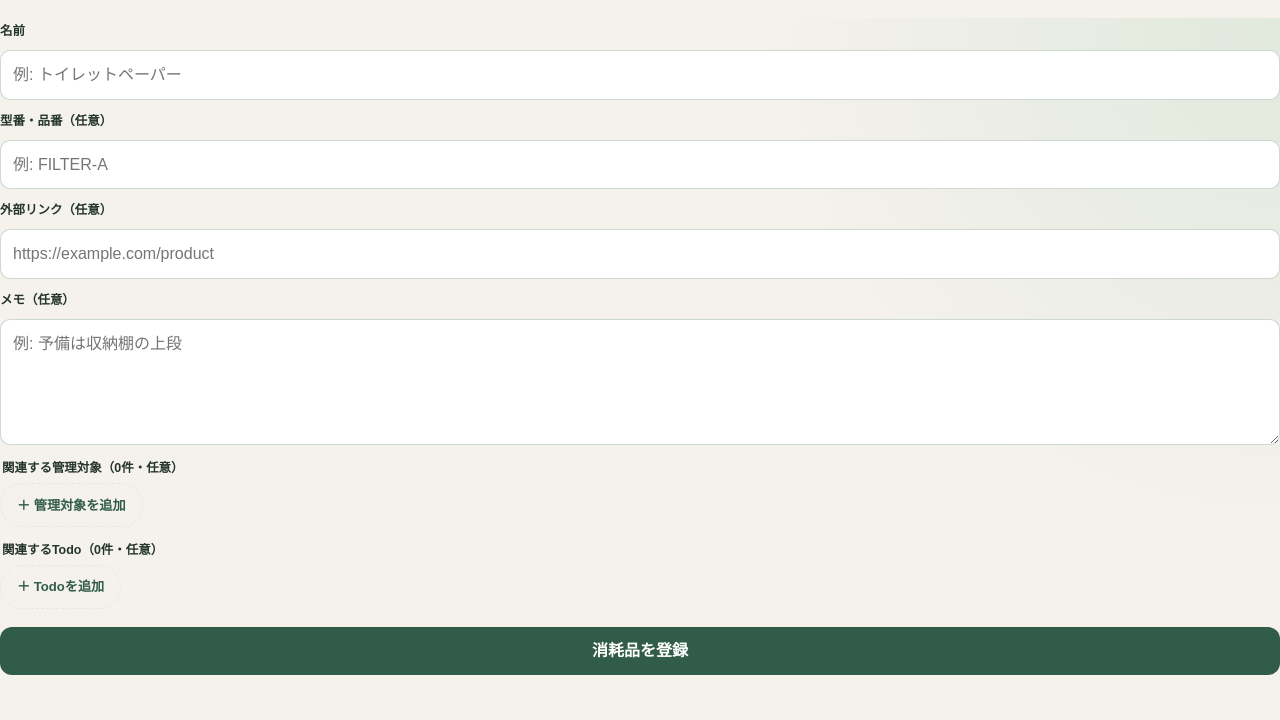
it: 消耗品フォームの関連付け (Issue #292) › 候補が多い場合と0件の場合に、状況を読み上げ可能な案内で伝える
Click the button "＋ 管理対象を追加" at [71, 505], box [0, 483, 143, 527]
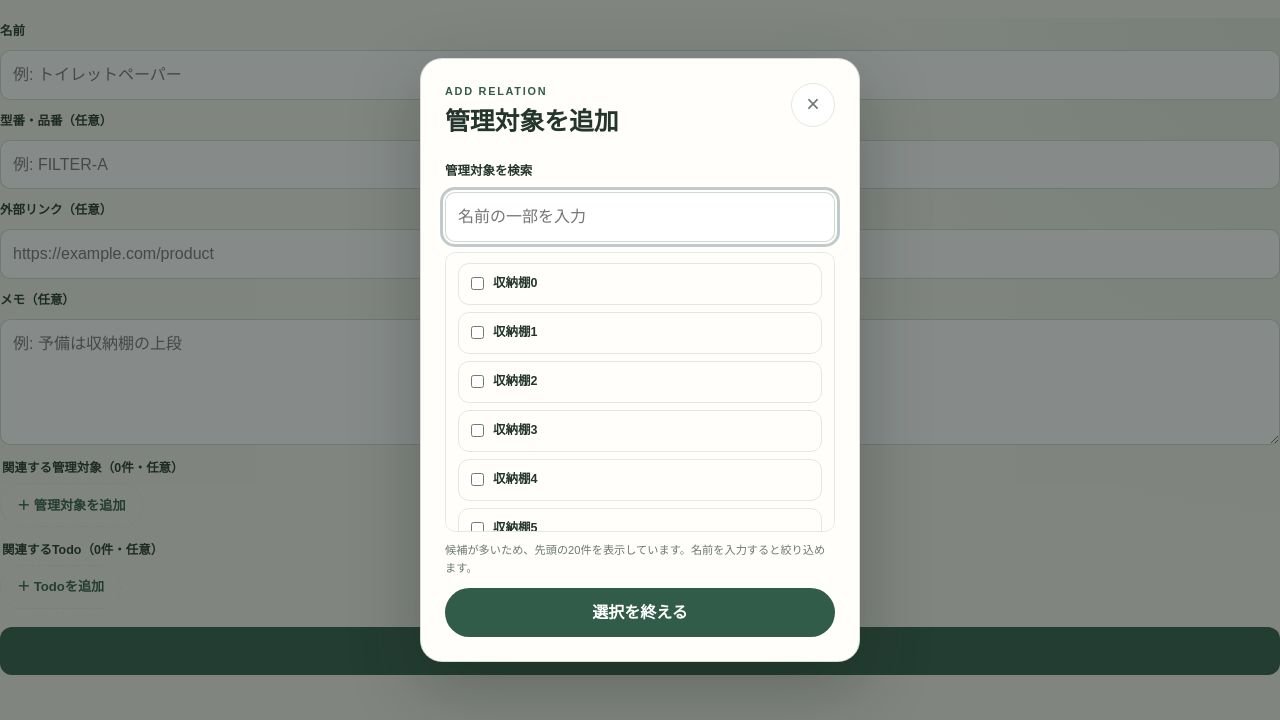
Type "該当なし" into the search field labelled "管理対象を検索" at [640, 217], box [445, 192, 835, 242]
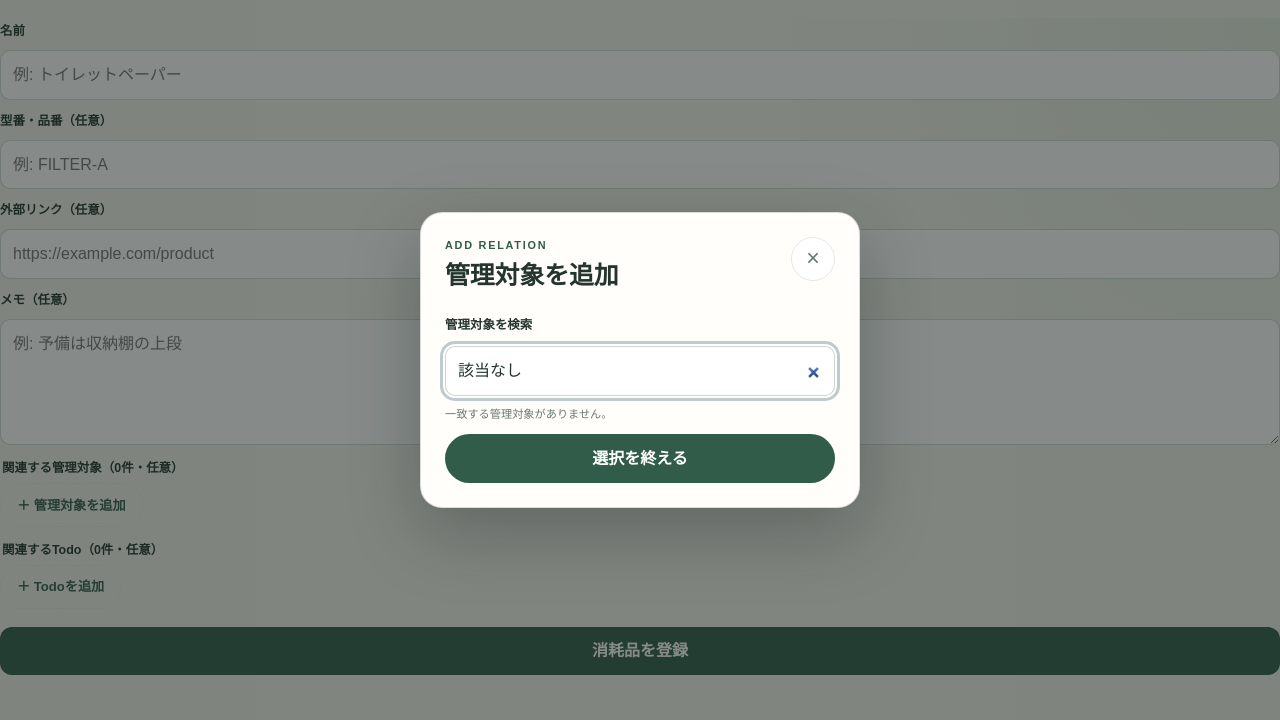
Check: the text "一致する管理対象がありません。" is shown, box [445, 408, 612, 420]
Check: no checkboxes are shown
